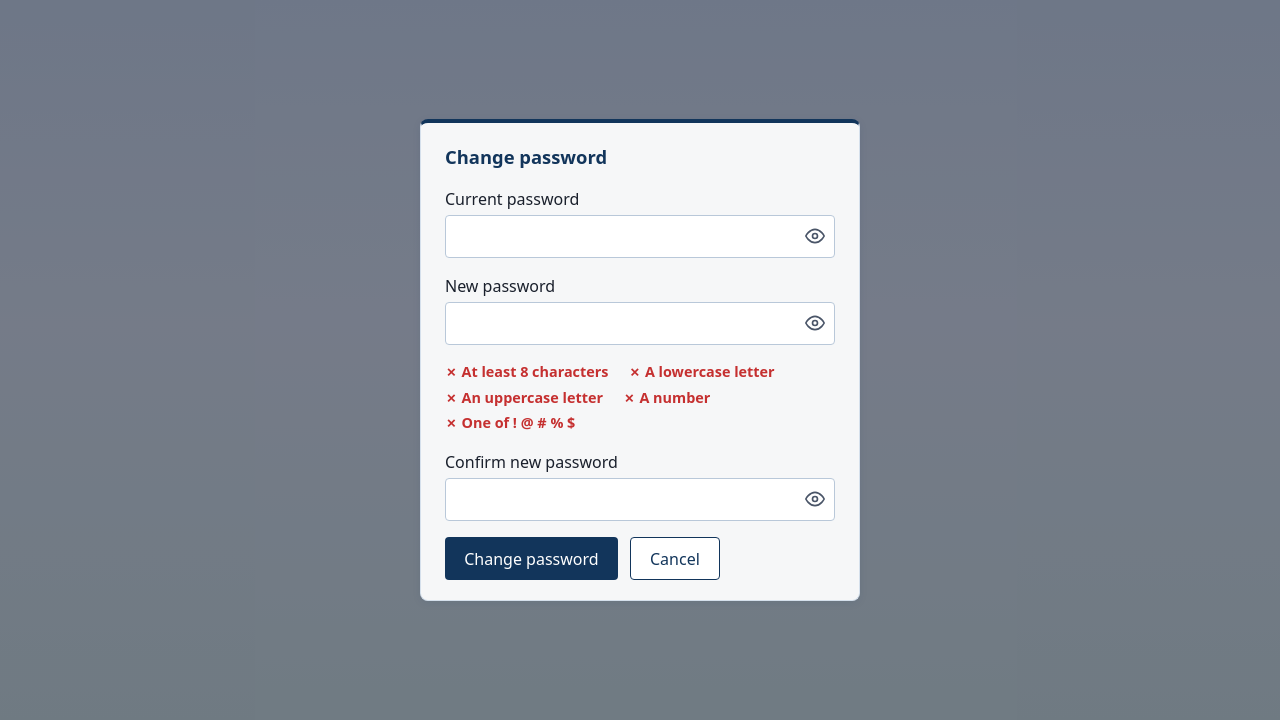
it: submitting › rejects a new password equal to the current one
This screenshot has width=1280, height=720.
Type "Securepass123!" into the password field labelled "Current password".
click(640, 236); type("Securepass123!")  # box [445,214,835,258]
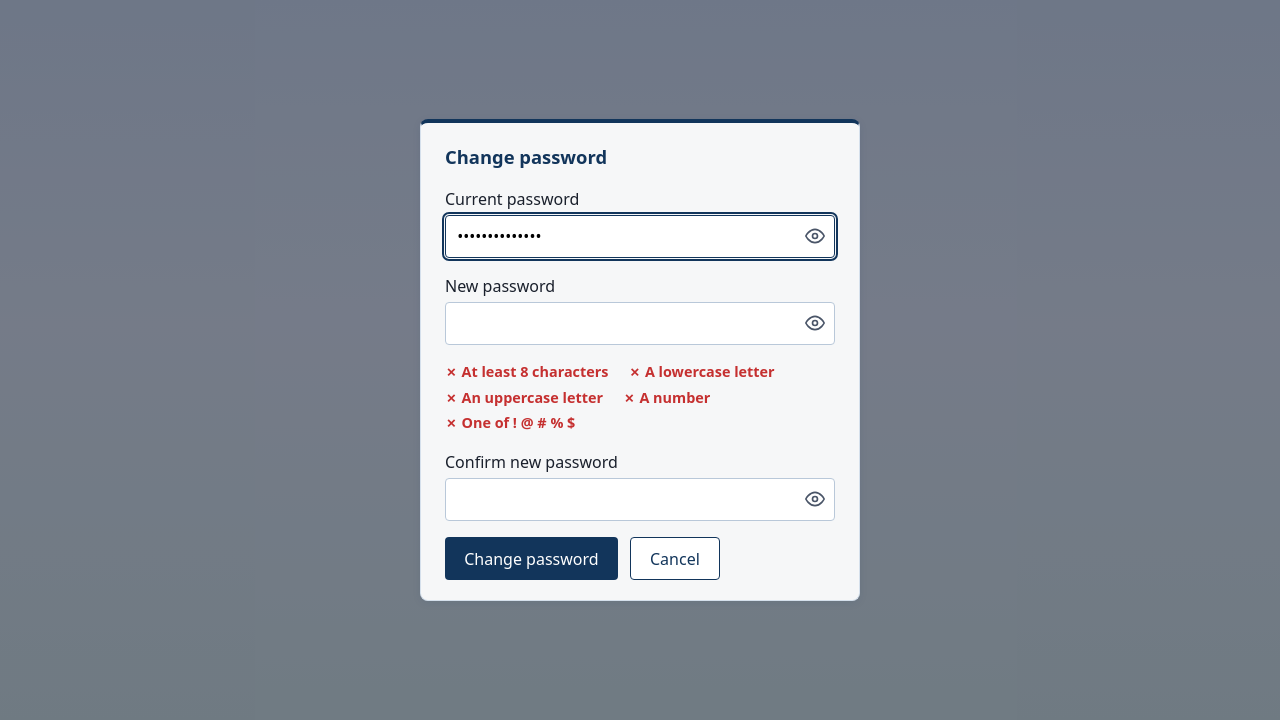
Type "Securepass123!" into the password field labelled "New password".
click(640, 323); type("Securepass123!")  # box [445,302,835,345]
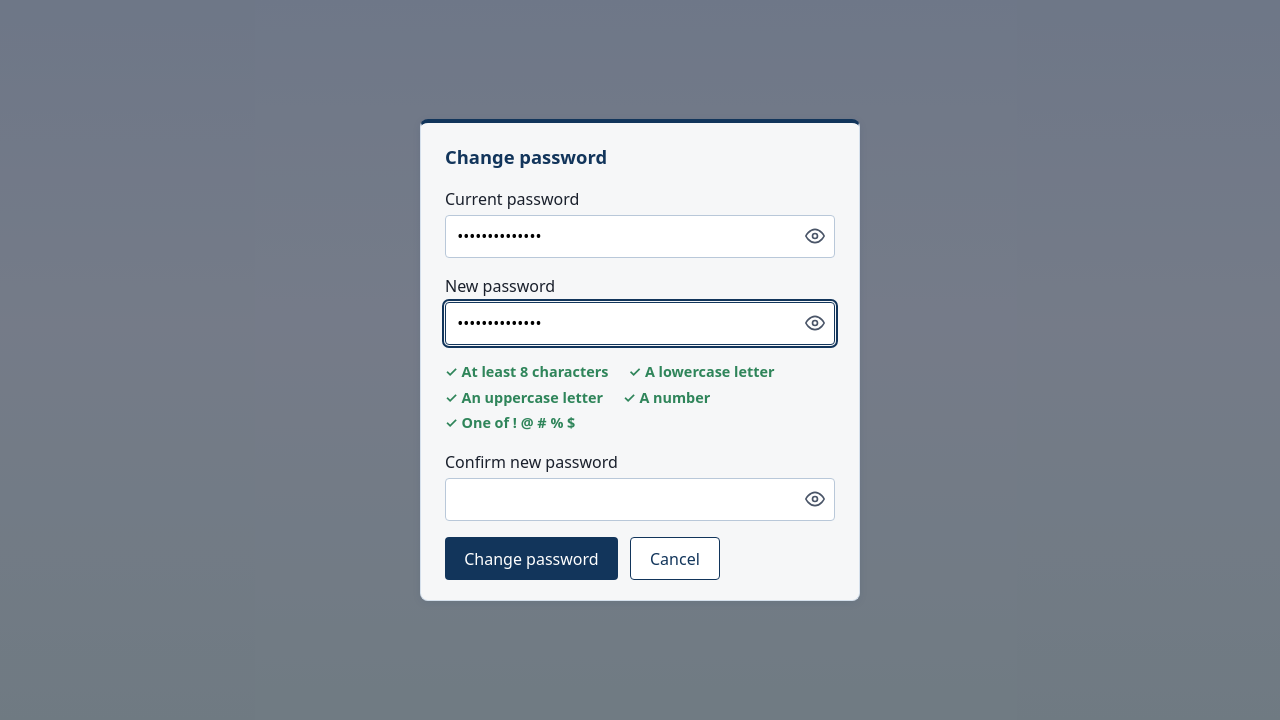
Type "Securepass123!" into the password field labelled "Confirm new password".
click(640, 499); type("Securepass123!")  # box [445,478,835,521]
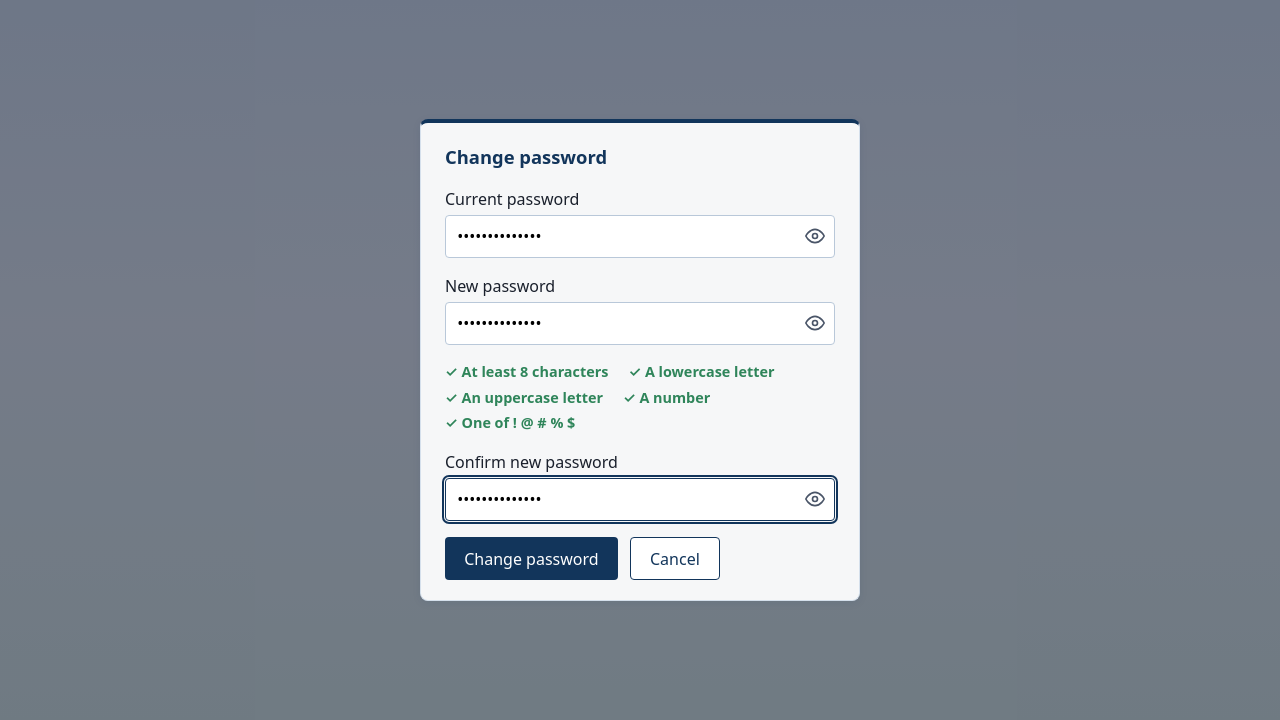
Click the button "Change password".
click(531, 558)  # box [445,537,618,580]
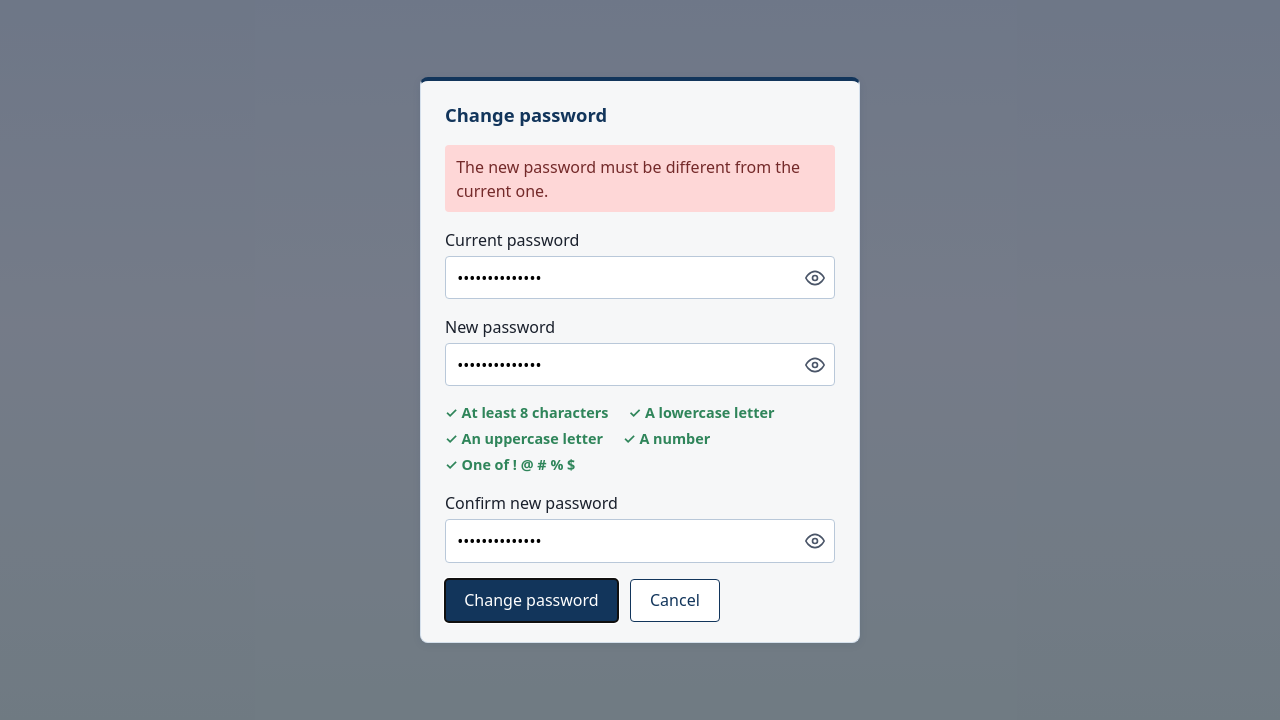
Check: the message reads "The new password must be different from the current one.", box [456,156,800,202]
